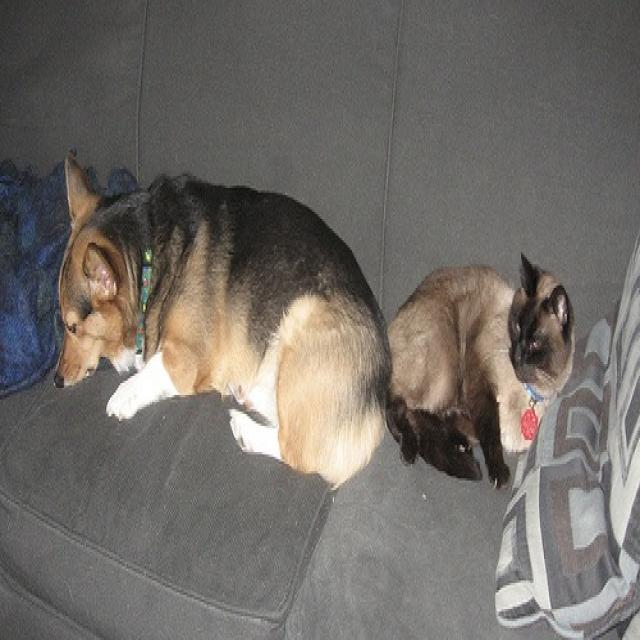cat: (389, 249, 577, 501)
dog: (51, 158, 391, 494)
sofa: (1, 3, 638, 638)
